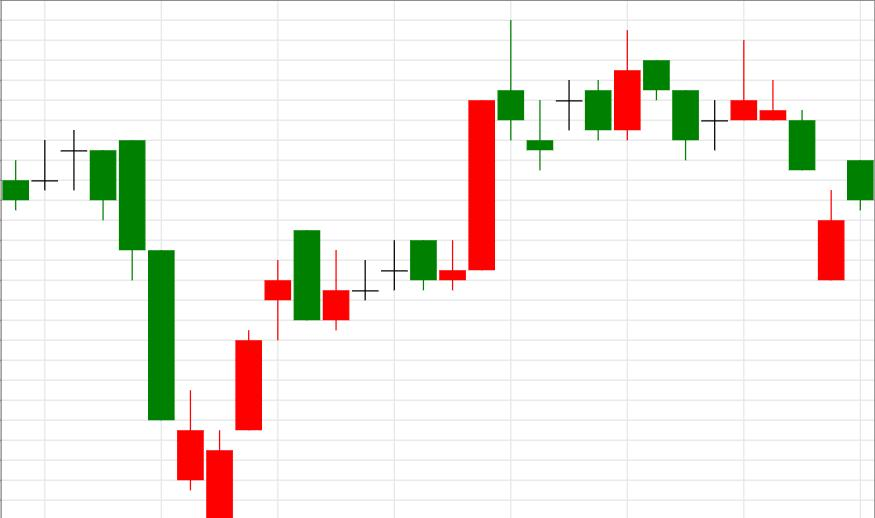shooting_star_fall: (322, 21, 525, 330)
